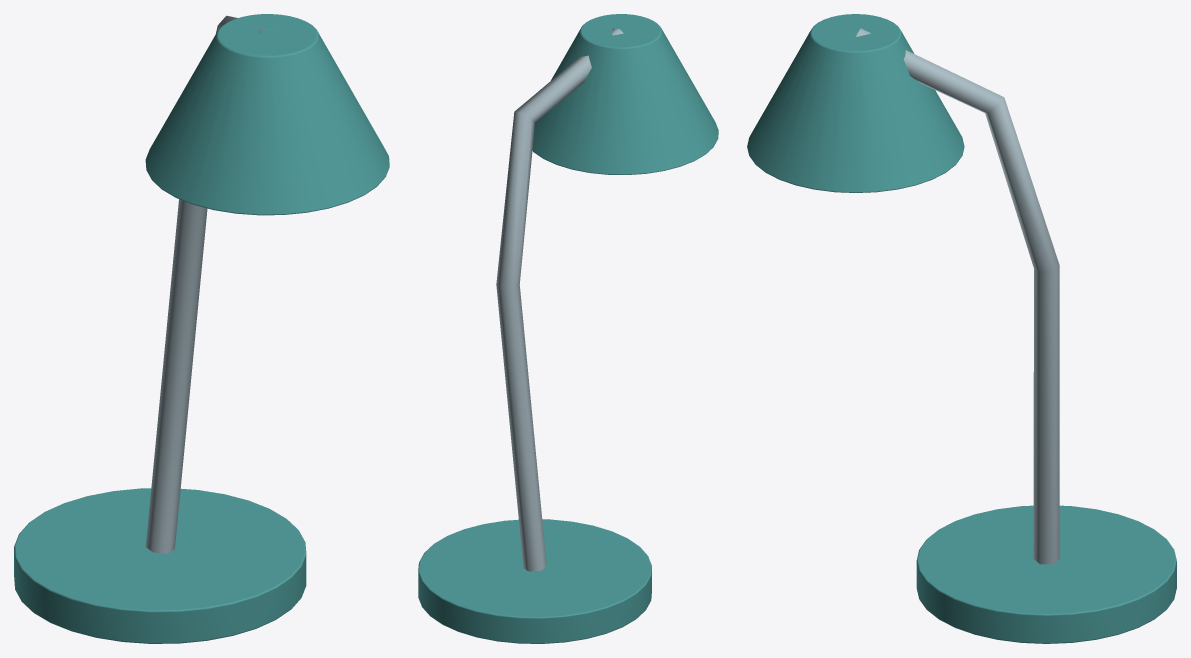
Rendered from prop_lamp.glb.
3 views of the same model, side by side, from view 1: azimuth 30°, elevation 25°; view 2: azimuth 150°, elevation 25°; view 3: azimuth 270°, elevation 25° (orthographic). The views are drawn at different scales.
Parts seen in each view (by area): view 1: Lamp weighted base, Spun metal lamp shade, Bent lamp neck; view 2: Lamp weighted base, Spun metal lamp shade, Bent lamp neck; view 3: Lamp weighted base, Spun metal lamp shade, Bent lamp neck.
Boxes of the visible parts, x1,y1,x2,y2 form: Lamp weighted base: [14, 488, 306, 643]; Spun metal lamp shade: [145, 14, 389, 215]; Bent lamp neck: [145, 15, 273, 553]; Lamp weighted base: [418, 519, 651, 643]; Spun metal lamp shade: [532, 14, 718, 174]; Bent lamp neck: [496, 28, 623, 571]; Lamp weighted base: [916, 505, 1176, 643]; Spun metal lamp shade: [747, 14, 964, 192]; Bent lamp neck: [855, 28, 1059, 564].
Size of the model in its own units: 0.03 by 0.0713 by 0.0495.
